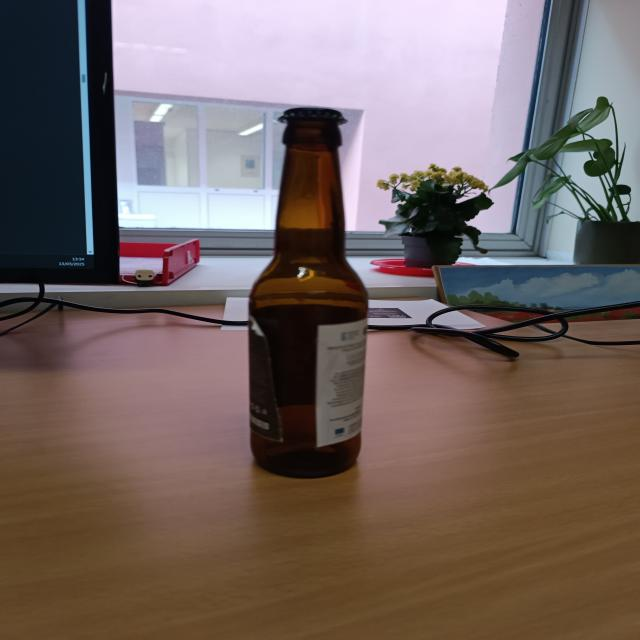Bottle: (248, 106, 368, 478)
Cap: (275, 104, 354, 122)
Label: (311, 323, 366, 445)
